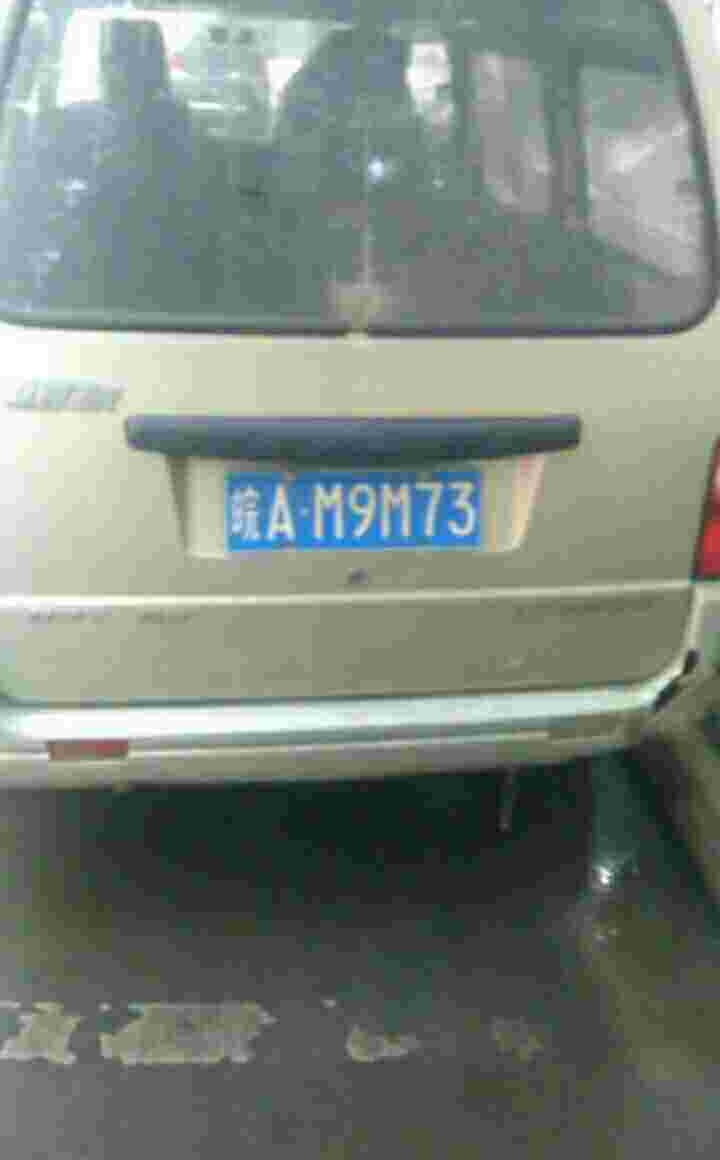plate: (227, 465, 491, 557)
